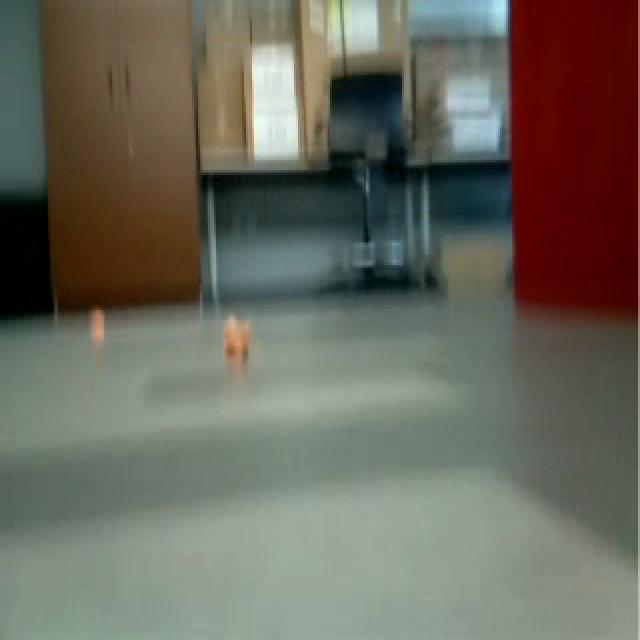oball: (220, 314, 258, 381), (84, 302, 112, 344)
